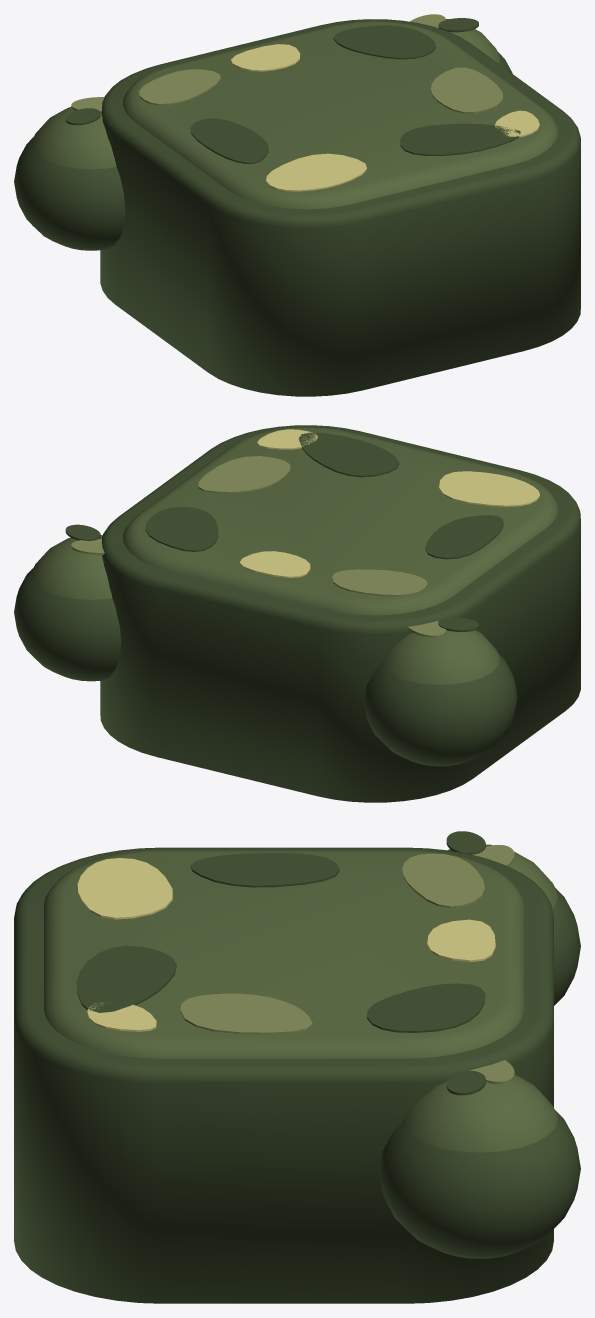
The model's file is body_estampa_camuflado.fbx.
3 renders of one model, top to bottom at view 1: azimuth 30°, elevation 25°; view 2: azimuth 150°, elevation 25°; view 3: azimuth 270°, elevation 25°, orthographic. The views are drawn at different scales.
Parts seen in each view (by area): view 1: body_estampa_camuflado_corpo, body_estampa_camuflado_mao_esq, body_estampa_camuflado_mao; view 2: body_estampa_camuflado_corpo, body_estampa_camuflado_mao_esq, body_estampa_camuflado_mao; view 3: body_estampa_camuflado_corpo, body_estampa_camuflado_mao, body_estampa_camuflado_mao_esq.
Part boxes in pixels (x1,y1,x2,y2): body_estampa_camuflado_corpo: (100,19,580,396); body_estampa_camuflado_mao_esq: (14,97,125,250); body_estampa_camuflado_mao: (410,14,512,73); body_estampa_camuflado_corpo: (100,425,580,802); body_estampa_camuflado_mao_esq: (364,617,517,766); body_estampa_camuflado_mao: (14,524,121,681); body_estampa_camuflado_corpo: (14,847,553,1303); body_estampa_camuflado_mao: (379,1060,580,1258); body_estampa_camuflado_mao_esq: (446,831,580,1005).
Bounding box in the file's own units: 5.4 × 2.02 × 4.2.
1 material, 1 textured.
